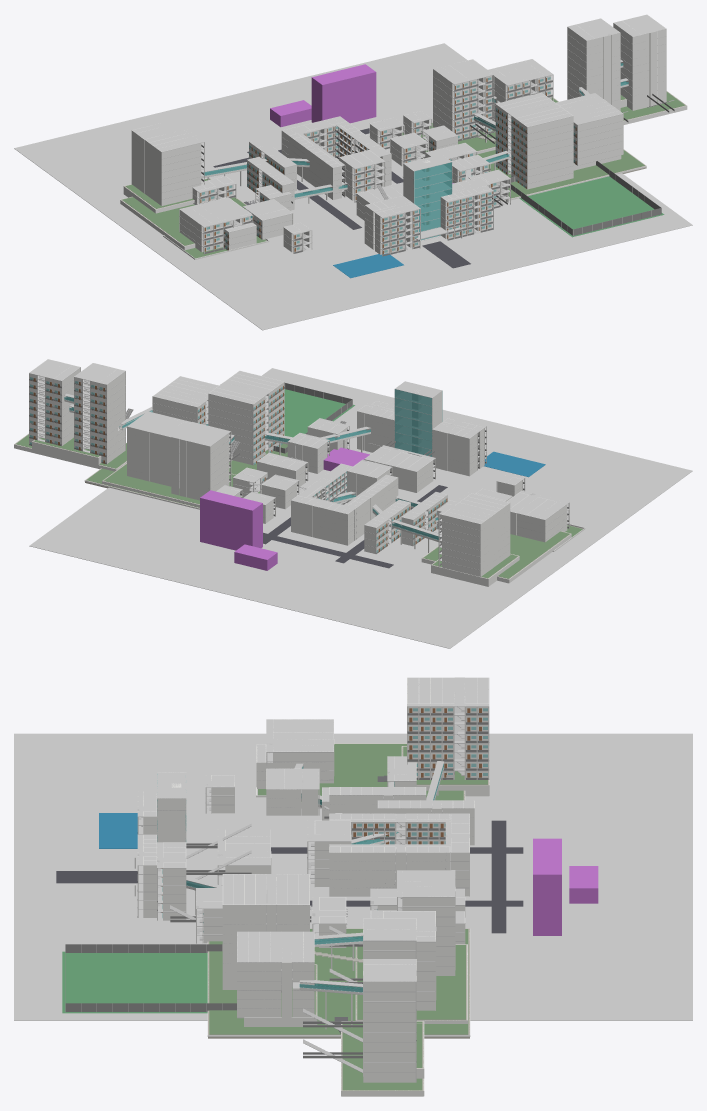
Rendered from campus.glb.
The picture shows the model from 3 angles, top to bottom: view 1: azimuth 30°, elevation 25°; view 2: azimuth 150°, elevation 25°; view 3: azimuth 270°, elevation 25°; orthographic projection. The views are drawn at different scales.
Parts seen in each view (by area): view 1: HCMUTE_Total_Ground, San_Bong_Da_Ngoai_Troi, Khoi_Ky_Tuc_Xa_D, Terrain_East_Base_Green, Khoi_K_Phong_Thi_Nghiem_F9_Slab, Khoi_J_Ky_Tuc_Xa_Tay_F8_Slab, Khoi_L_Xuong_Sang_Tao_F4_Slab, Khoi_M_Hanh_Chinh_Mo_Rong_F6_Slab, Terrain_West_Base_Green, Khoi_I_Hoc_Lieu_So_F7_Slab, Ho_Nuoc_Canh_Quan, Khoi_H_Trung_Tam_Nghien_Cuu_F8_Slab (+15 smaller); view 2: HCMUTE_Total_Ground, Khoi_Ky_Tuc_Xa_D, San_Bong_Da_Ngoai_Troi, Khoi_K_Phong_Thi_Nghiem_F9_Slab, Terrain_West_Base_Green, Khoi_J_Ky_Tuc_Xa_Tay_F8_Slab, Khoi_M_Hanh_Chinh_Mo_Rong_F6_Slab, Khoi_L_Xuong_Sang_Tao_F4_Slab, Hoi_Truong_Lon_F3_Slab, Terrain_East_Upper_Green, Khoi_I_Hoc_Lieu_So_F7_Slab, Ho_Nuoc_Canh_Quan (+17 smaller); view 3: HCMUTE_Total_Ground, San_Bong_Da_Ngoai_Troi, Terrain_East_Base_Green, Terrain_West_Base_Green, Khoi_Ky_Tuc_Xa_D, Khoi_K_Phong_Thi_Nghiem_F9_Slab, Khoi_M_Hanh_Chinh_Mo_Rong_F6_Slab, Khoi_J_Ky_Tuc_Xa_Tay_F8_Slab, Khoi_L_Xuong_Sang_Tao_F4_Slab, Terrain_East_Upper_Green, Hoi_Truong_Lon_F3_Slab, Terrain_Tower_Podium_Green (+29 smaller).
Boxes of the visible parts, box(x1,y1,x2,y2) form: HCMUTE_Total_Ground: box(14, 43, 692, 330); San_Bong_Da_Ngoai_Troi: box(519, 176, 664, 237); Khoi_Ky_Tuc_Xa_D: box(311, 64, 376, 123); Terrain_East_Base_Green: box(402, 97, 644, 198); Khoi_K_Phong_Thi_Nghiem_F9_Slab: box(496, 93, 573, 127); Khoi_J_Ky_Tuc_Xa_Tay_F8_Slab: box(132, 120, 204, 152); Khoi_L_Xuong_Sang_Tao_F4_Slab: box(179, 197, 252, 227); Khoi_M_Hanh_Chinh_Mo_Rong_F6_Slab: box(556, 93, 622, 124); Terrain_West_Base_Green: box(122, 179, 245, 245); Khoi_I_Hoc_Lieu_So_F7_Slab: box(488, 59, 552, 85); Ho_Nuoc_Canh_Quan: box(333, 253, 403, 278); Khoi_H_Trung_Tam_Nghien_Cuu_F8_Slab: box(433, 59, 493, 84); HCMUTE_Total_Ground: box(29, 368, 692, 648); Khoi_Ky_Tuc_Xa_D: box(200, 490, 262, 550); San_Bong_Da_Ngoai_Troi: box(284, 389, 354, 437); Khoi_K_Phong_Thi_Nghiem_F9_Slab: box(209, 371, 283, 404); Terrain_West_Base_Green: box(423, 531, 569, 578); Khoi_J_Ky_Tuc_Xa_Tay_F8_Slab: box(439, 492, 509, 524); Khoi_M_Hanh_Chinh_Mo_Rong_F6_Slab: box(152, 376, 218, 407); Khoi_L_Xuong_Sang_Tao_F4_Slab: box(506, 490, 569, 520); Hoi_Truong_Lon_F3_Slab: box(365, 445, 435, 471); Terrain_East_Upper_Green: box(104, 464, 235, 504); Khoi_I_Hoc_Lieu_So_F7_Slab: box(127, 411, 191, 437); Ho_Nuoc_Canh_Quan: box(484, 451, 545, 477); HCMUTE_Total_Ground: box(14, 733, 692, 1020); San_Bong_Da_Ngoai_Troi: box(62, 951, 207, 1013); Terrain_East_Base_Green: box(209, 929, 468, 1034); Terrain_West_Base_Green: box(301, 744, 463, 801); Khoi_Ky_Tuc_Xa_D: box(533, 838, 561, 935); Khoi_K_Phong_Thi_Nghiem_F9_Slab: box(222, 874, 309, 905); Khoi_M_Hanh_Chinh_Mo_Rong_F6_Slab: box(237, 931, 314, 962); Khoi_J_Ky_Tuc_Xa_Tay_F8_Slab: box(407, 677, 489, 706); Khoi_L_Xuong_Sang_Tao_F4_Slab: box(266, 719, 333, 752); Terrain_East_Upper_Green: box(357, 945, 465, 1019); Hoi_Truong_Lon_F3_Slab: box(217, 829, 270, 865); Terrain_Tower_Podium_Green: box(342, 1021, 422, 1090).
Size of the model in its own units: 354 by 54.5 by 280.
